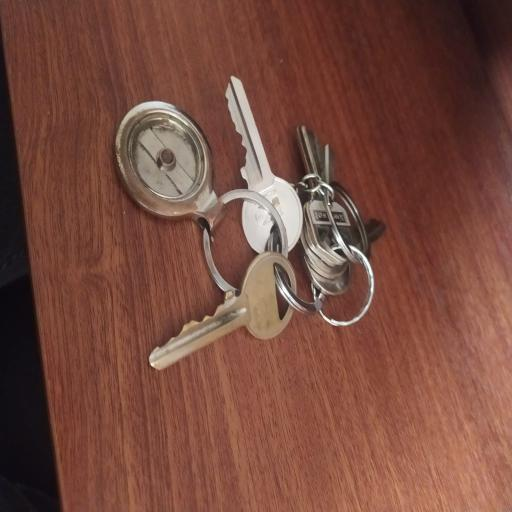Llaves: (107, 66, 390, 378)
